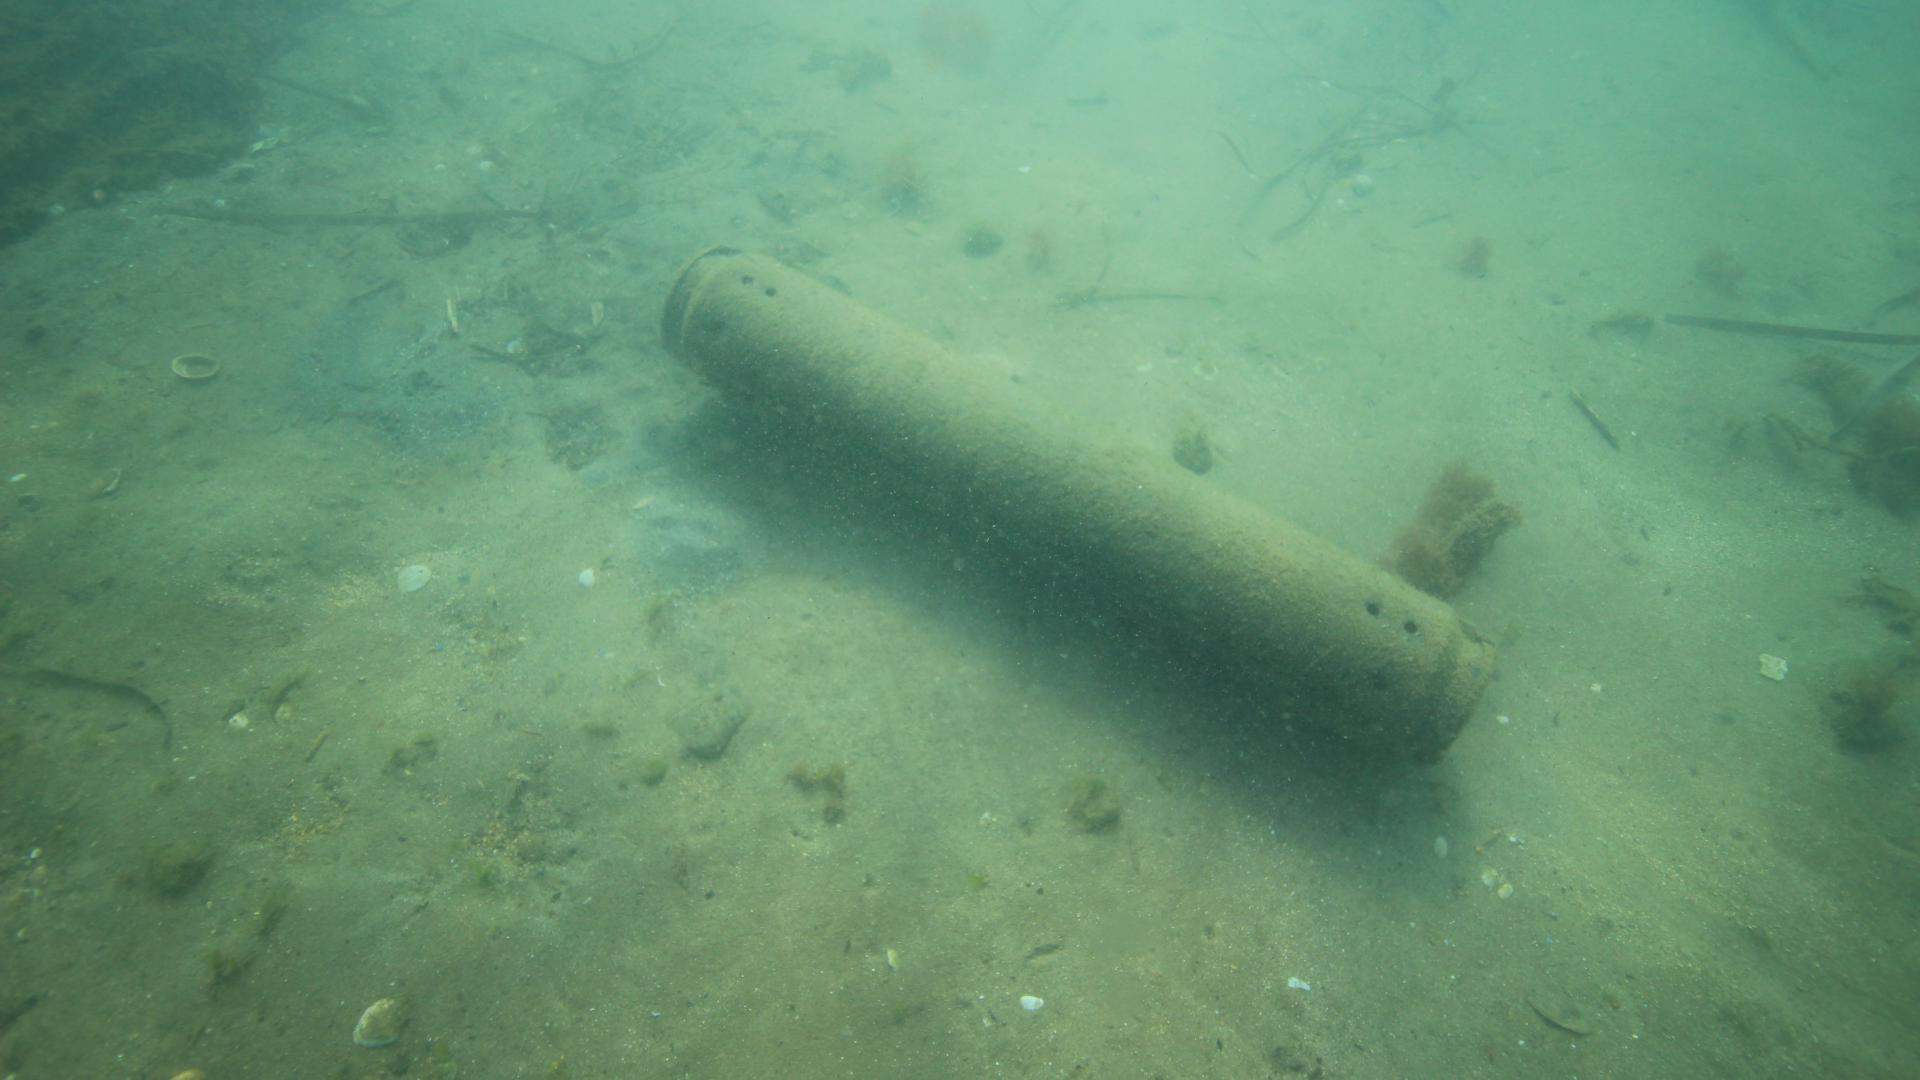eel fish trap: (653, 243, 1501, 766)
